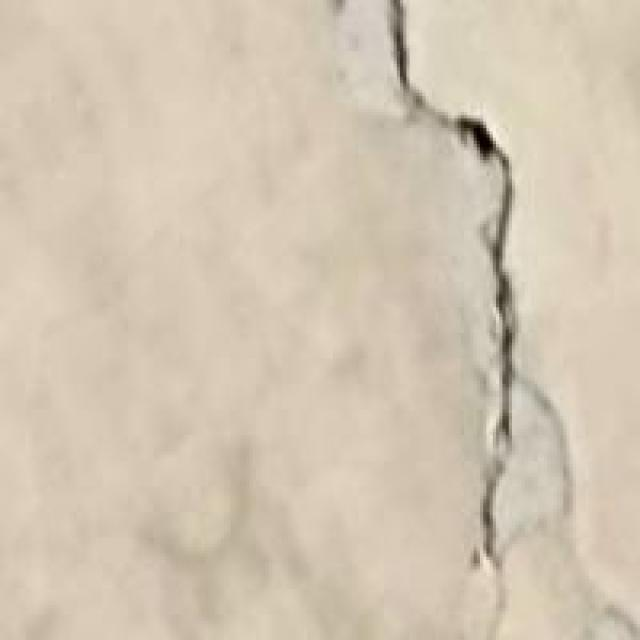Crack: (346, 1, 563, 548)
